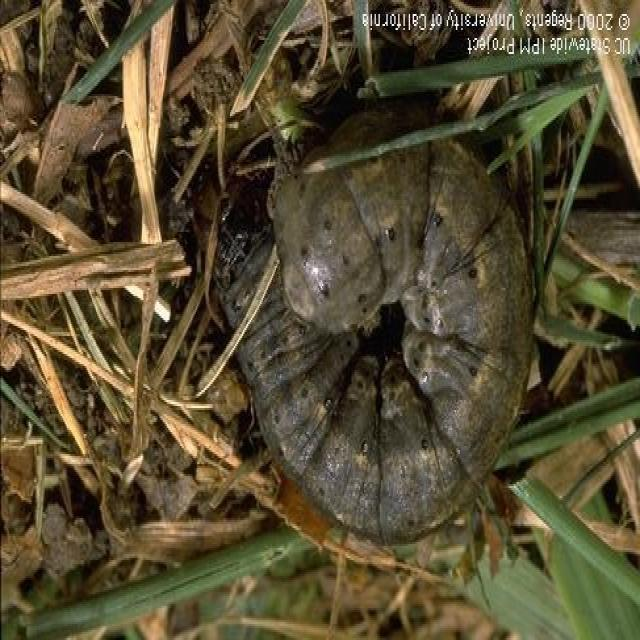black cutworm: (209, 128, 535, 558)
